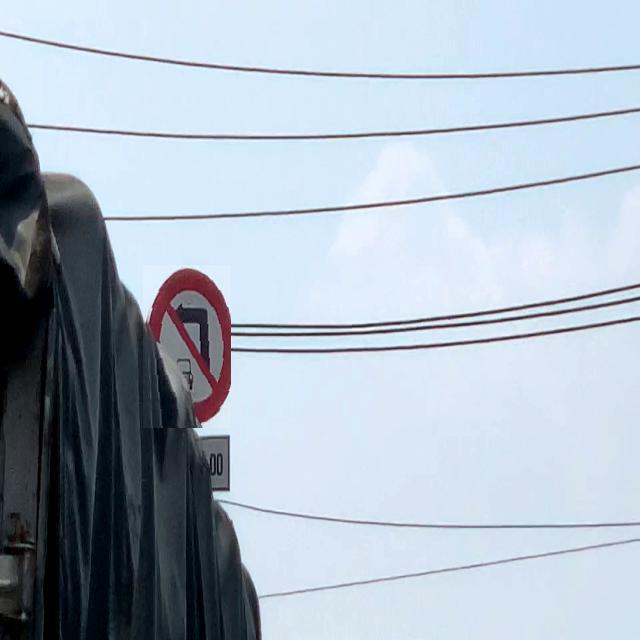P-103c: (143, 265, 231, 428)
